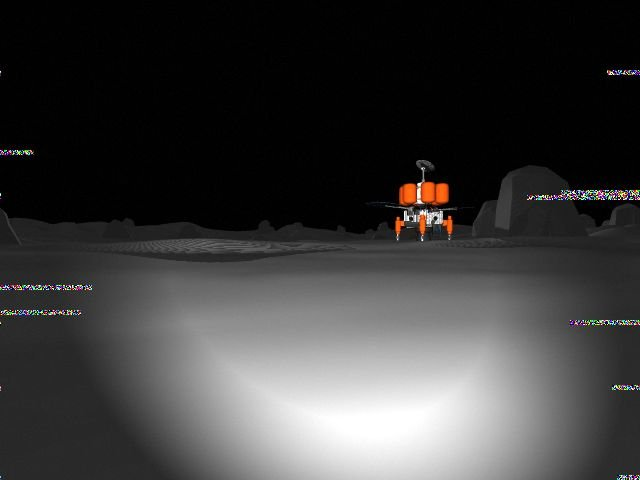homebase: (368, 157, 475, 243)
